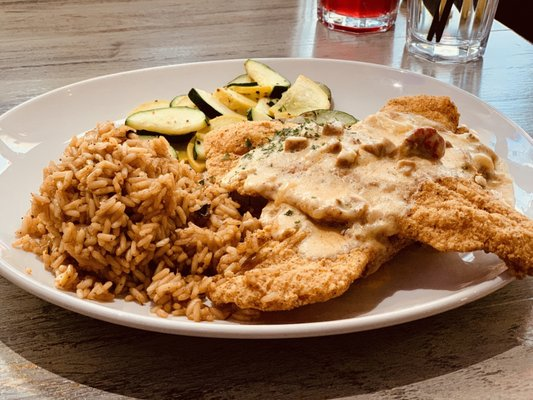pizza: (402, 0, 501, 65)
